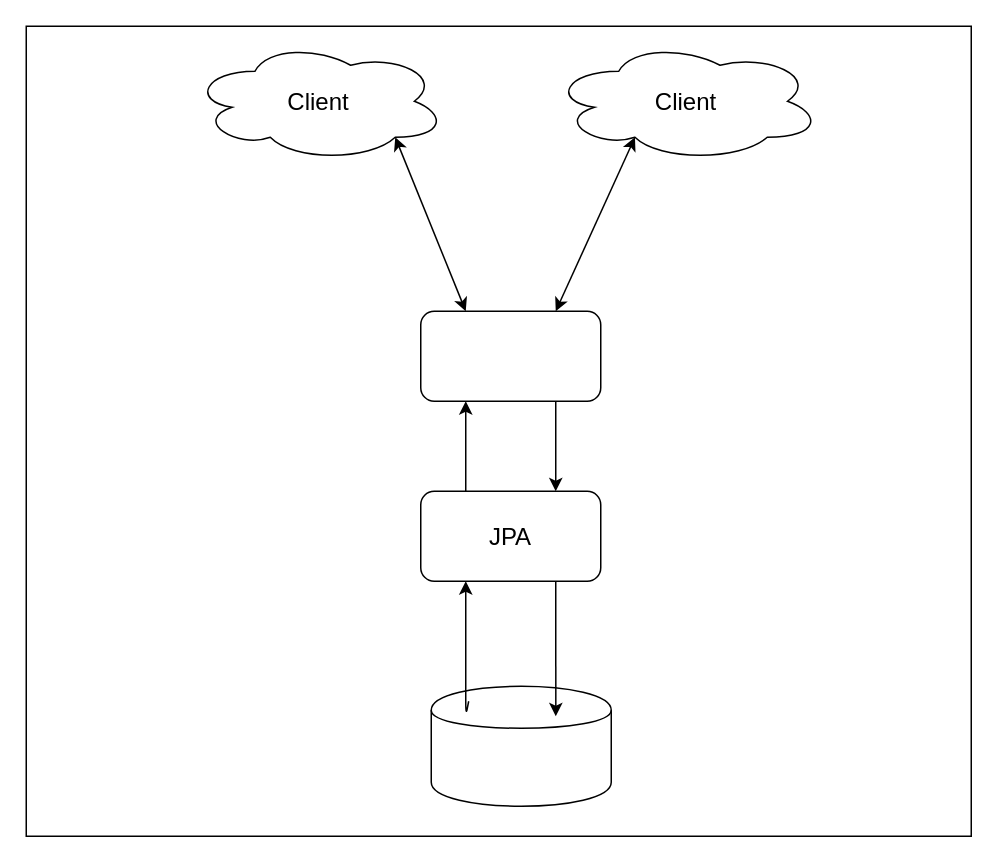
This 998x863 diagram has some shape labels left out. The centre of each missing label's shape, as x and y in pixels:
"DB" goes at [520,745].
"EJB" goes at [510,355].
